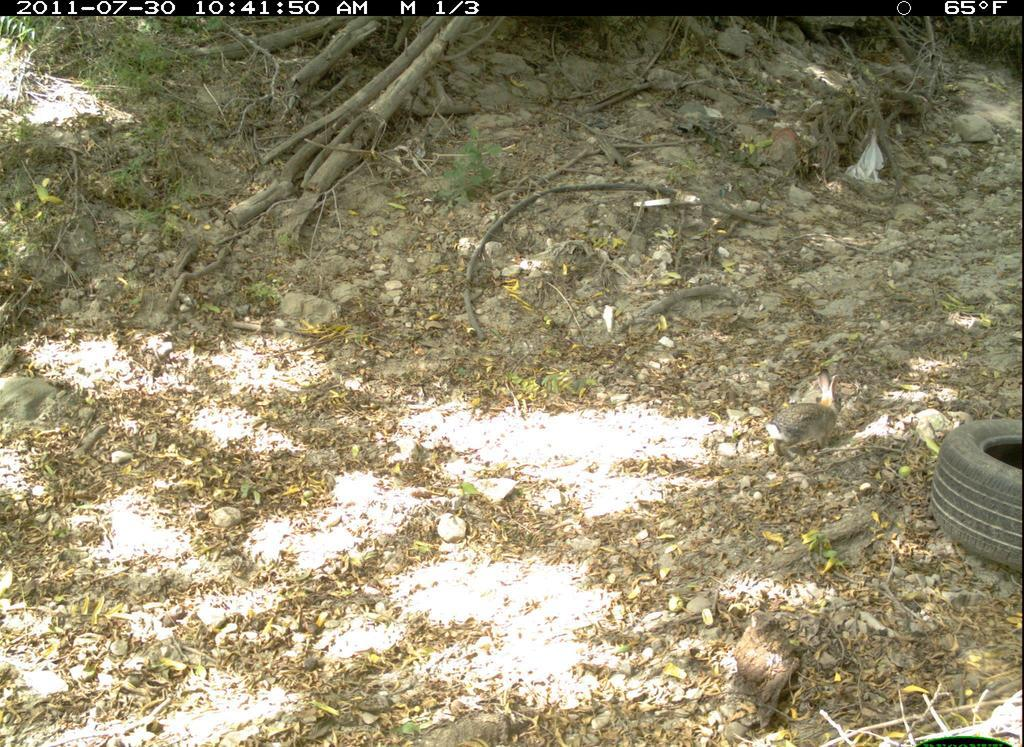rabbit: (762, 364, 865, 464)
